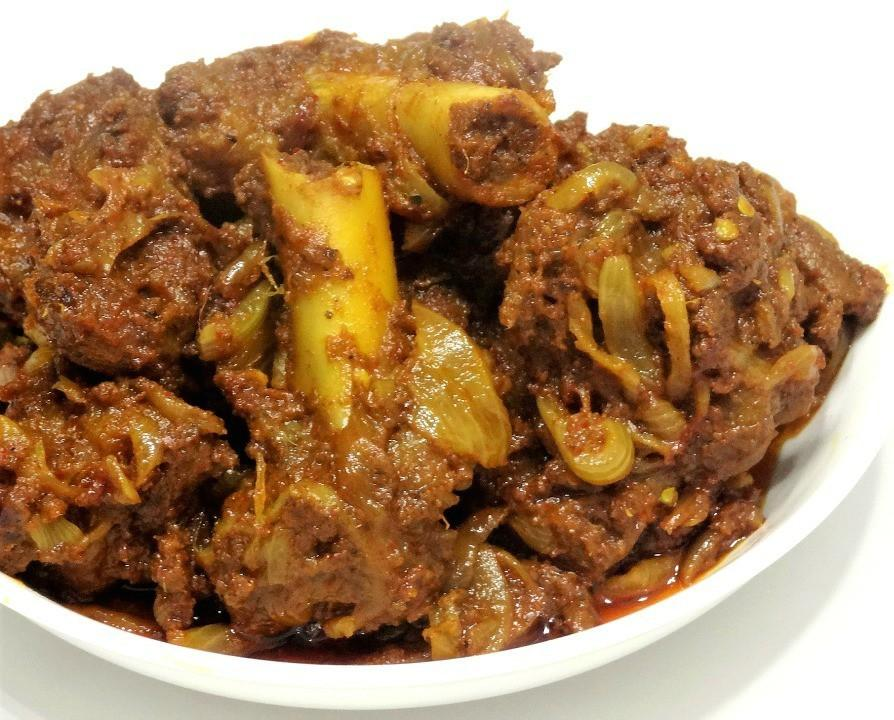MuttonCurry: (0, 9, 890, 658)
